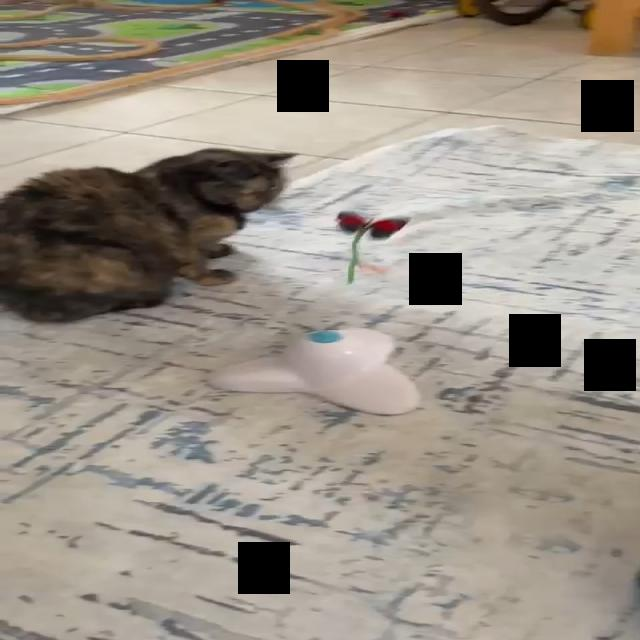authorized: (0, 146, 299, 323)
